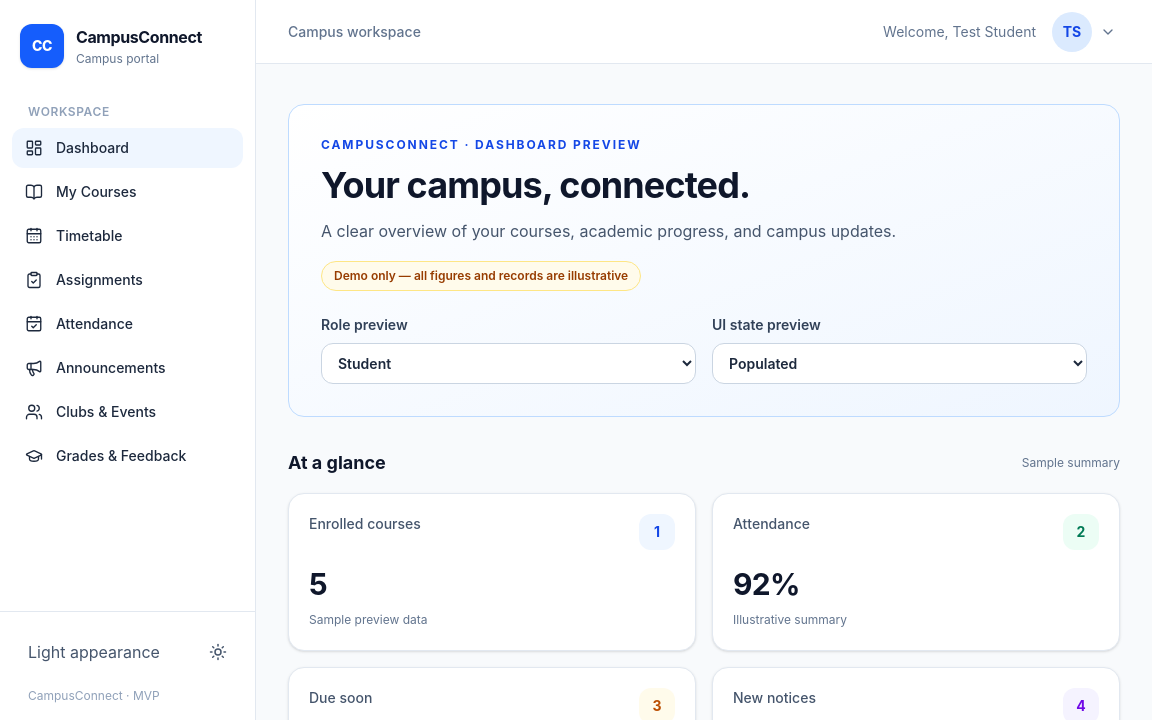
Test case: CampusConnect application › switches to dark mode when requested
The image size is (1152, 720).
Click the button with aria-label "Switch to dark mode" at (128, 652), box [16,628,239,676]
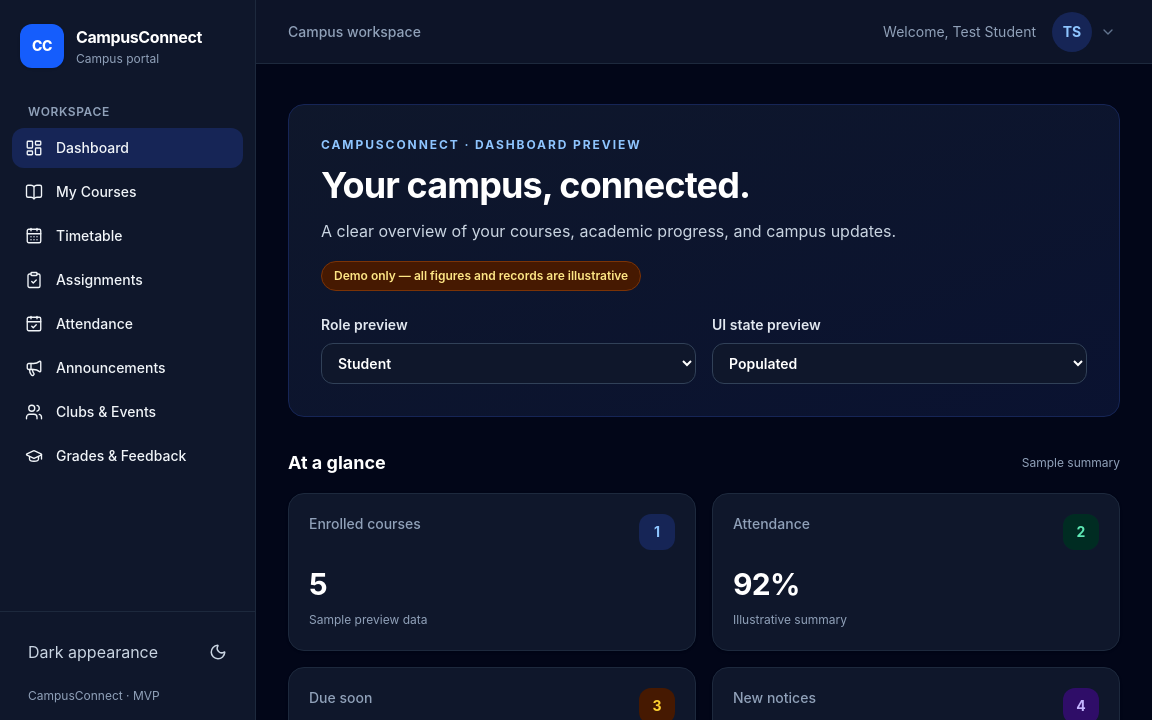
expect the button with aria-label "Switch to light mode" is shown: met, box [16,628,239,676]
